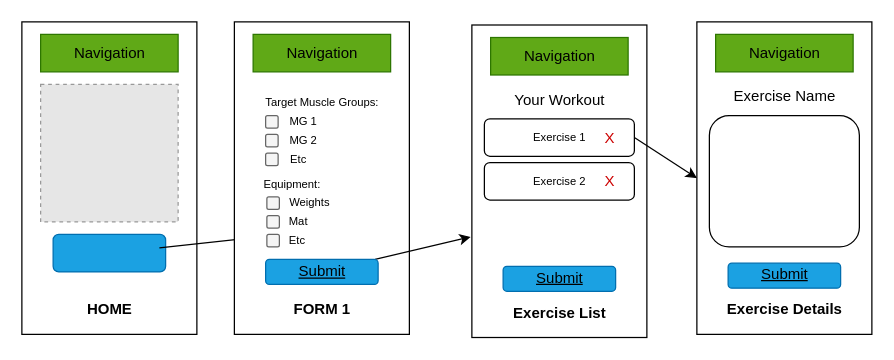
The diagram is 894 pixels wide and 360 high, and some of its shapes have lost their labels. Grey dashed boxes stand in for pictures. Here are the shapes that lost their labels. From the top down, the box of each, then its label:
(708, 114, 859, 247): Exercise 1 Details
(52, 233, 166, 272): Get Started
